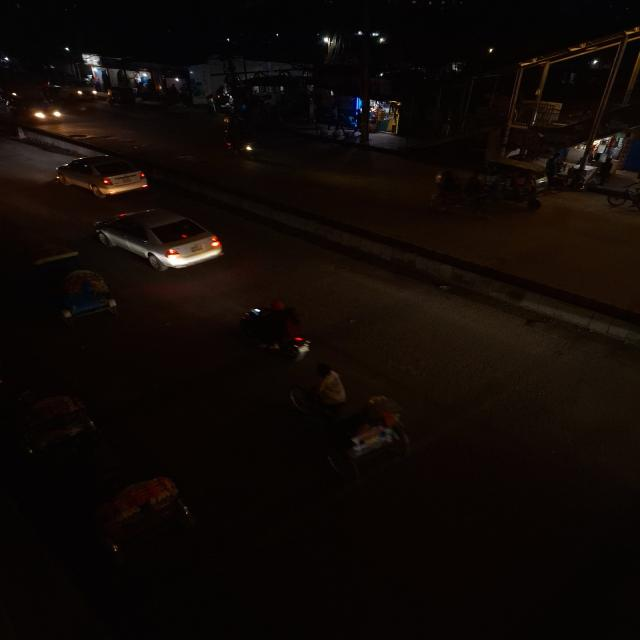car: (90, 205, 230, 273), (46, 154, 156, 196), (3, 88, 68, 128)
motorcycle: (226, 293, 318, 365), (222, 134, 264, 163)
rickshaw: (48, 412, 210, 568), (291, 367, 418, 479), (23, 248, 112, 331), (425, 164, 495, 220), (484, 152, 546, 210)
